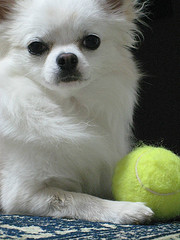tennis ball: (111, 145, 180, 220)
